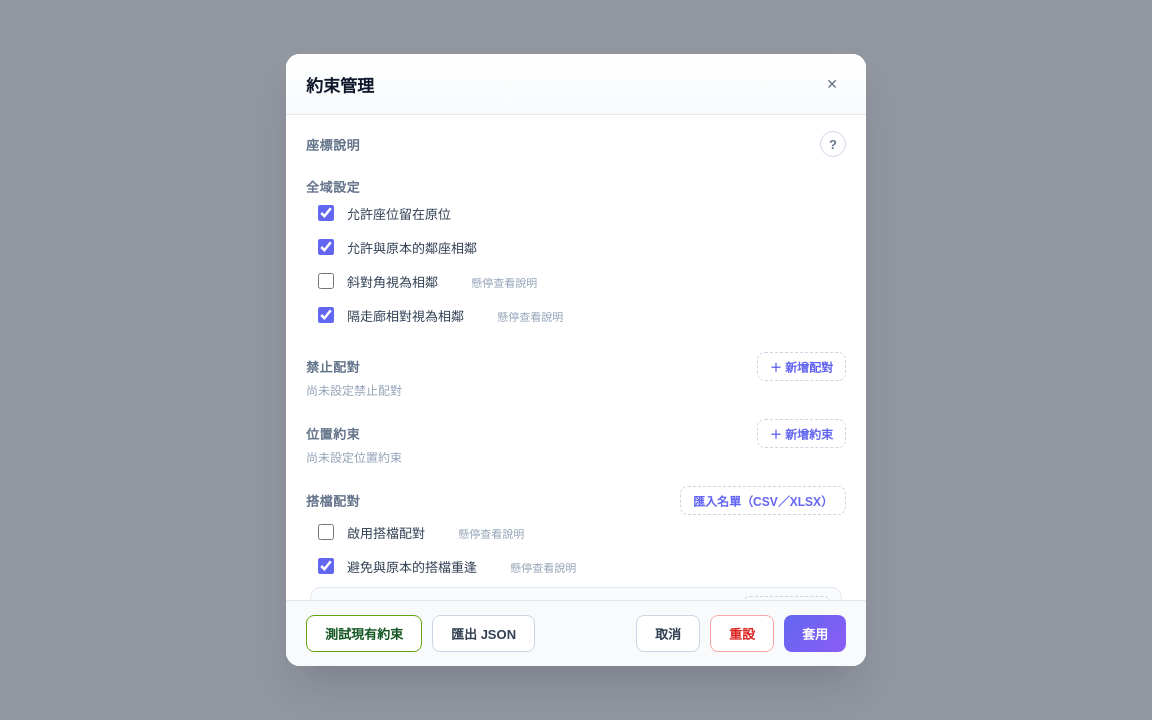
Scenario: ConstraintsEditor › 新增與刪除位置約束
Click the button with class "add-constraint": {"x": 801, "y": 434} x1=757 y1=419 x2=846 y2=448
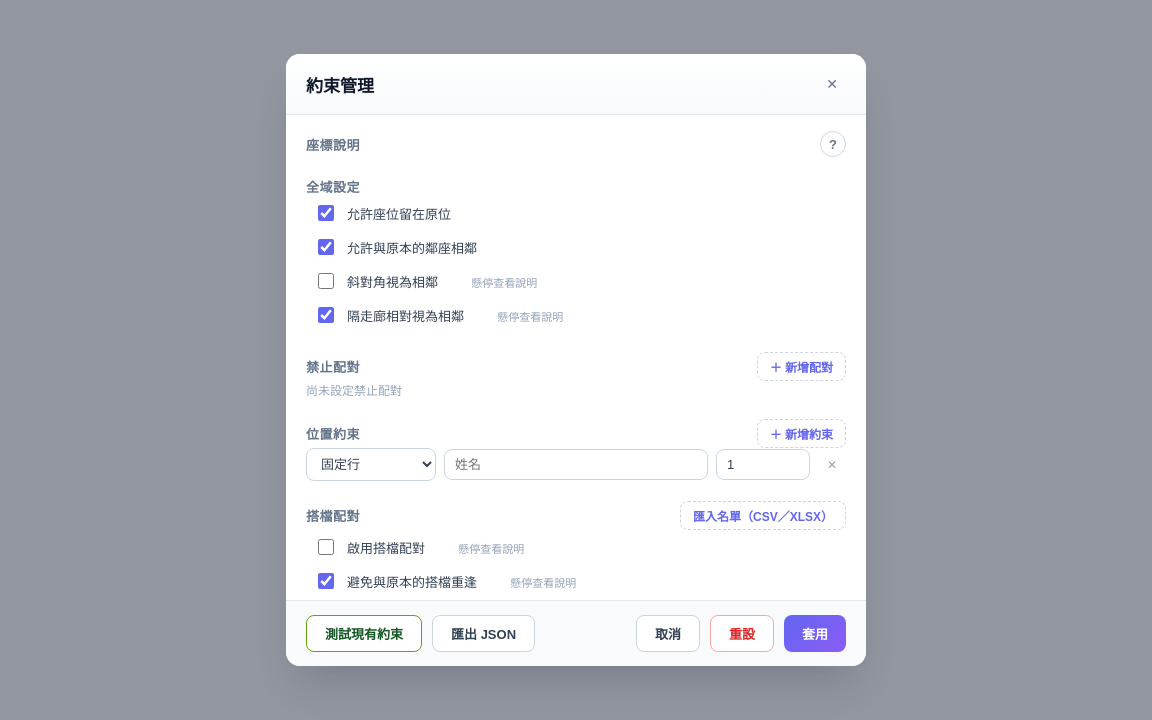
Check: the number of elements with class "constraint-row" is 1, box x1=306 y1=448 x2=846 y2=481
Click the button with class "remove-constraint": {"x": 832, "y": 464} x1=818 y1=450 x2=846 y2=478
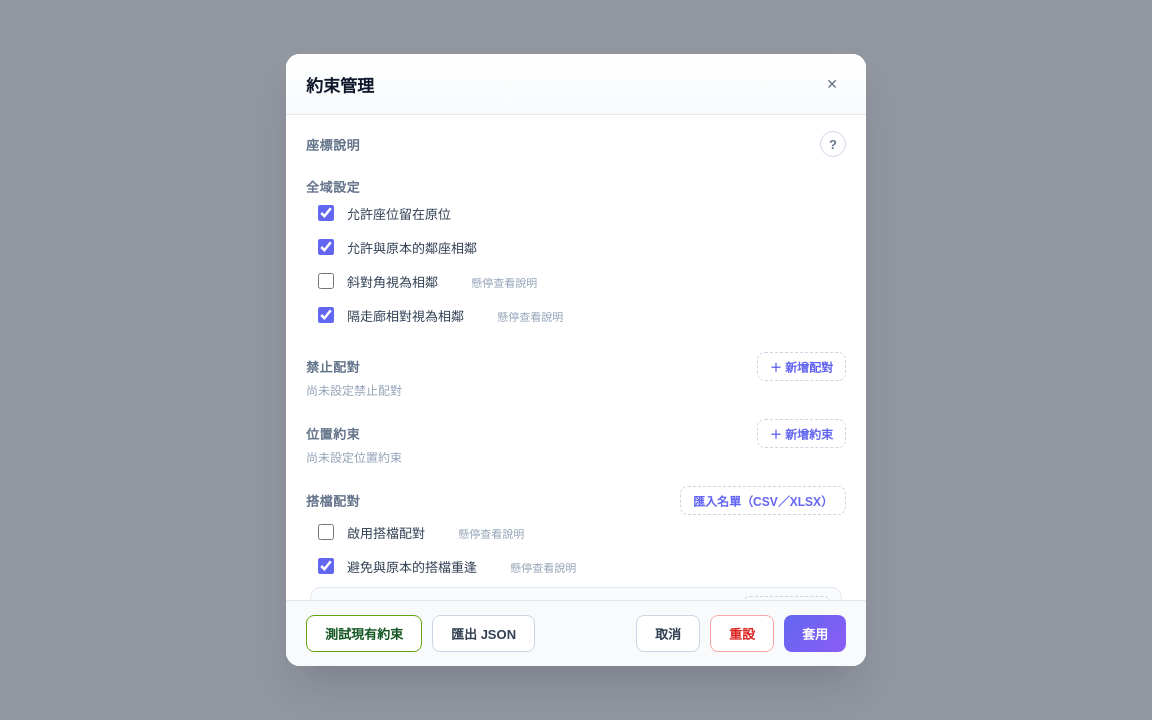
Check: no elements with class "constraint-row" are shown
